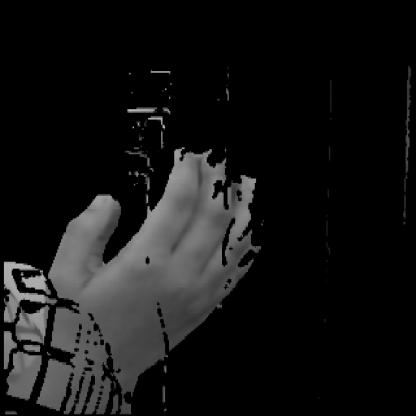dua: (29, 127, 278, 388)
